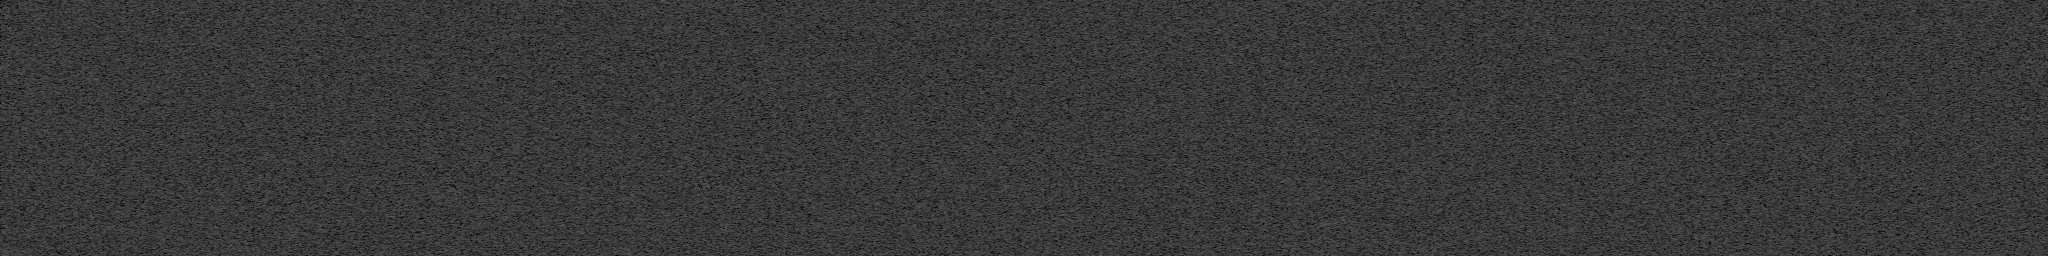wv_am: (1889, 0, 1895, 192), (1934, 0, 1938, 256), (1889, 193, 1895, 255)
wv_lsb: (1868, 99, 1873, 152), (1869, 38, 1873, 98), (1869, 17, 1873, 37), (1869, 1, 1873, 16), (1869, 201, 1873, 216), (1869, 239, 1873, 251), (1869, 231, 1873, 238), (1869, 217, 1873, 223), (1869, 165, 1873, 171), (1869, 157, 1873, 163), (1869, 225, 1873, 230), (1869, 252, 1873, 256)
